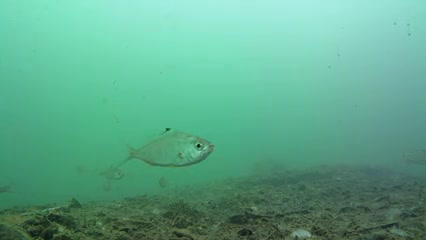smallfish: (130, 127, 217, 178), (102, 165, 127, 182)
